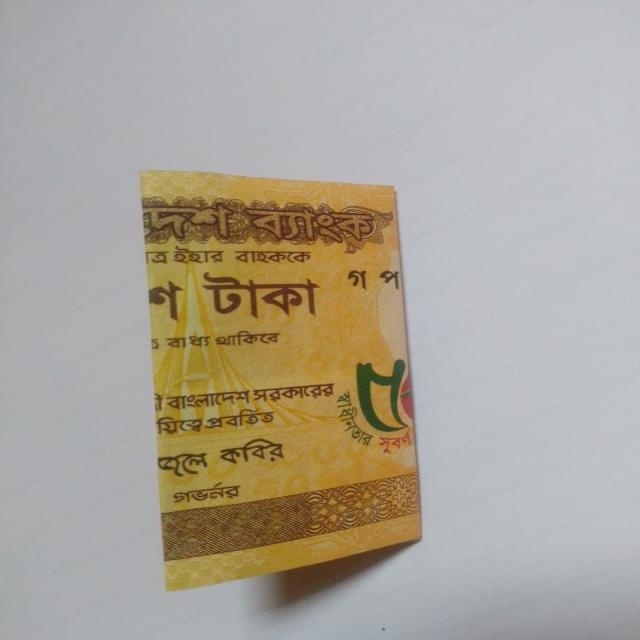Taka: (138, 156, 438, 608)
